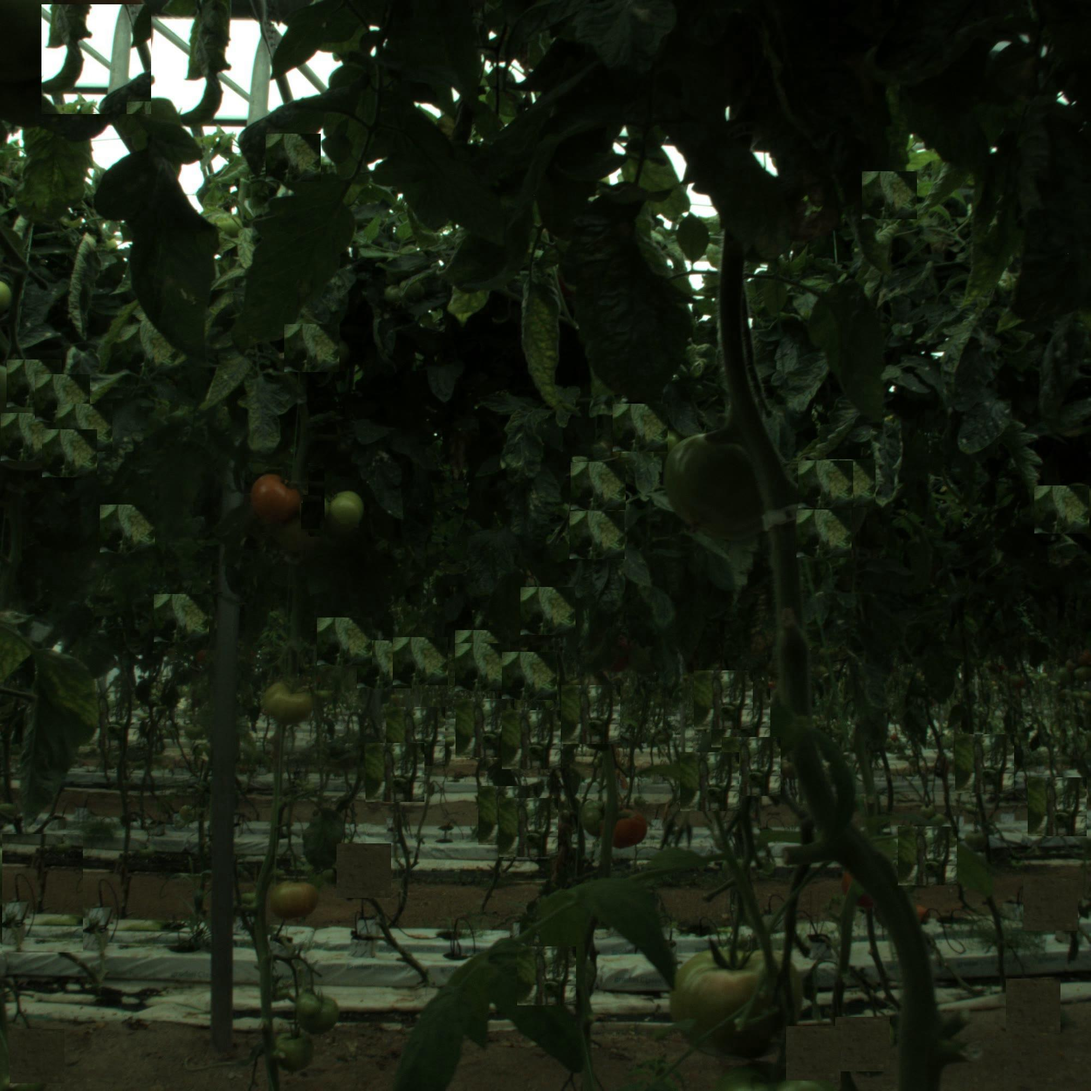fully-ripe: (243, 473, 308, 537), (602, 807, 646, 852)
semi-ripe: (269, 878, 314, 922)
unripe: (664, 430, 777, 544), (675, 943, 787, 1055), (271, 1023, 316, 1068), (266, 679, 311, 724), (295, 994, 337, 1036), (323, 492, 365, 533)
